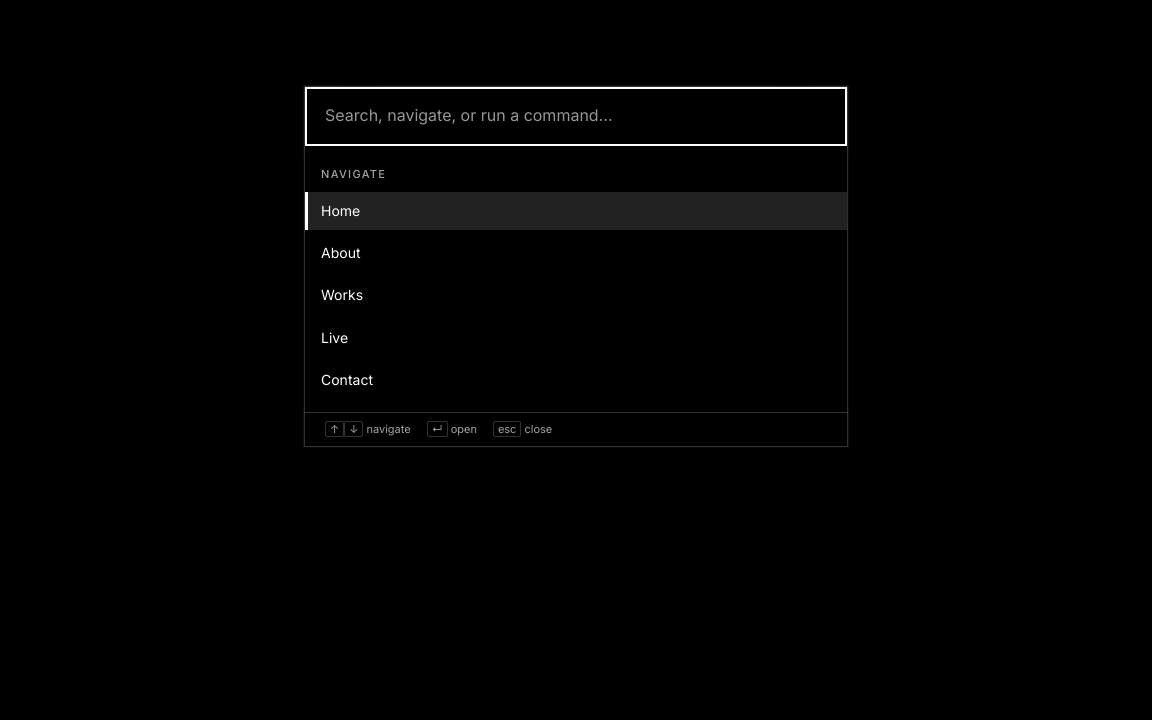
Test: CommandPalette › filters as you type and tracks the active descendant
The width and height of the screenshot is (1152, 720).
Type "privacy" into the dropdown with class "command-palette__input". click: x=576, y=117
box: [305,87,847,146]
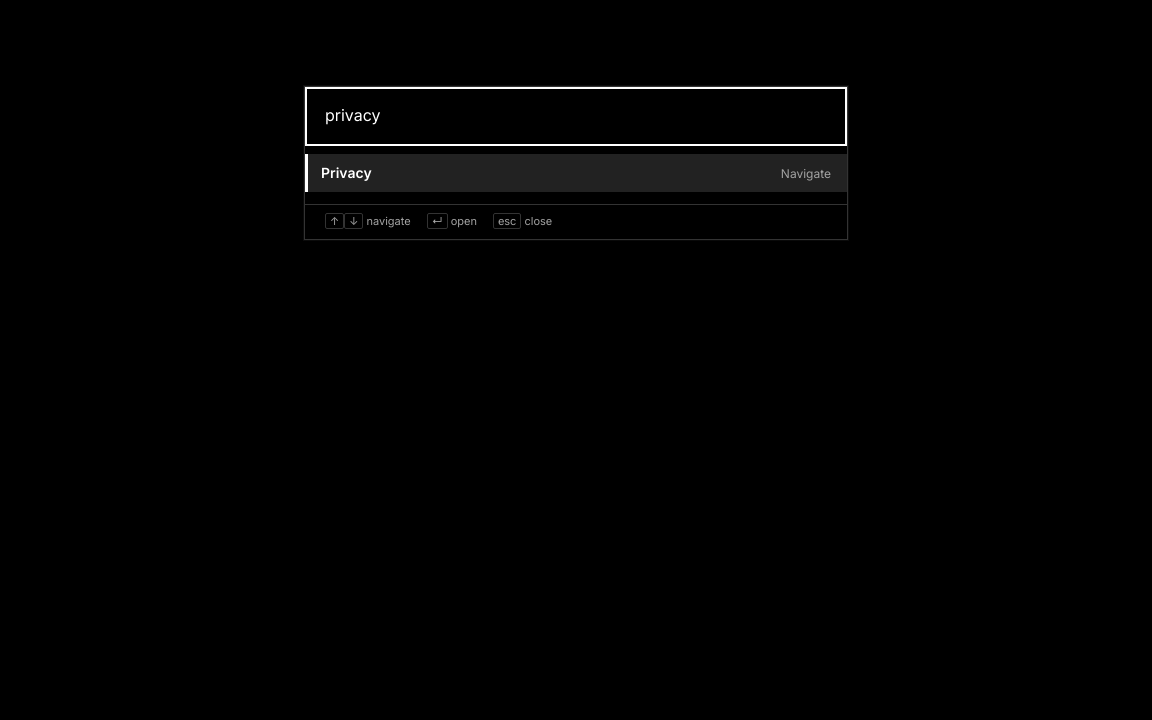
Now the option "Privacy Navigate" is shown, box [305,154,847,192]
